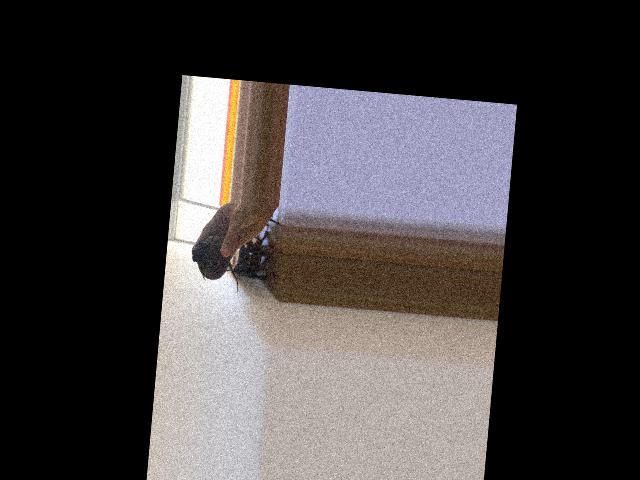beet: (188, 233, 243, 294)
